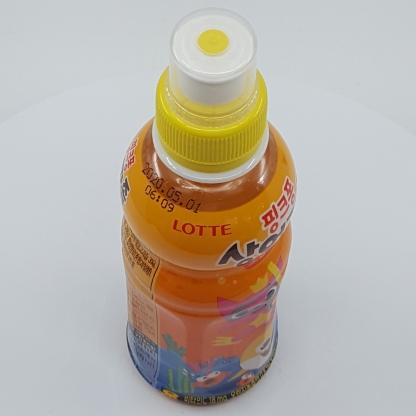----------235ML: (119, 7, 297, 405)
